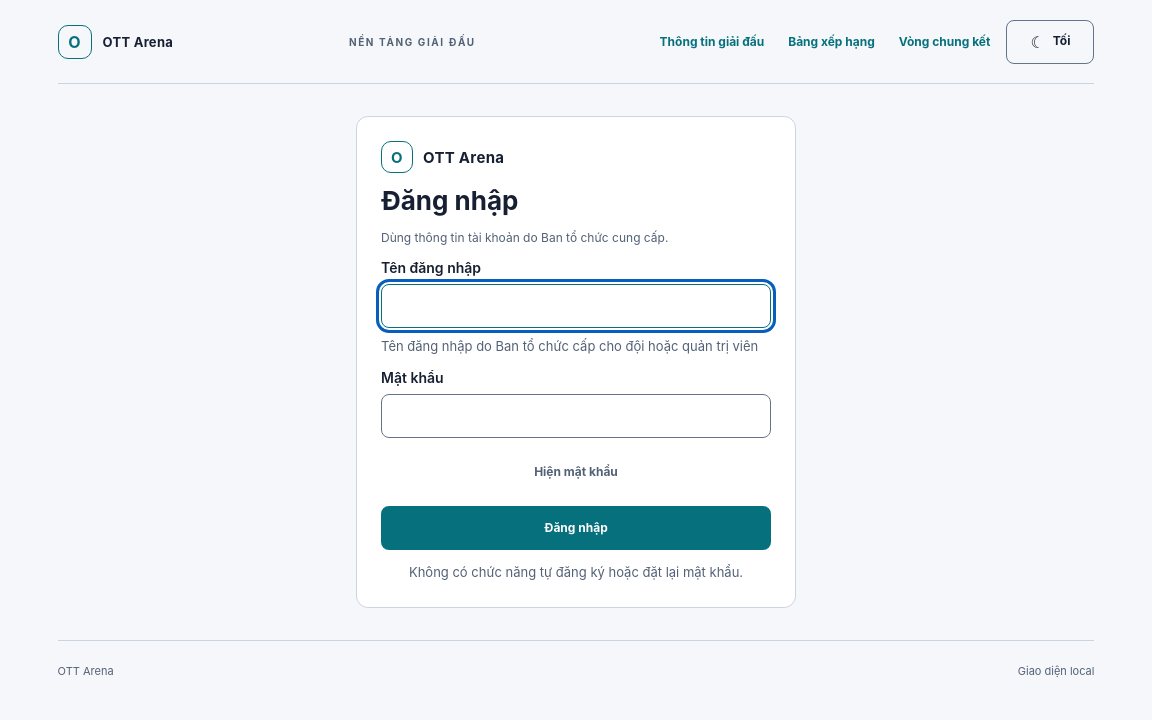
Scenario: authentication routes › accepts Enter submission, routes a team login to /team, and drops the previous admin route
Step 1. Type "team-user" into the field labelled "Tên đăng nhập" → [576, 306], box [381, 284, 771, 328]
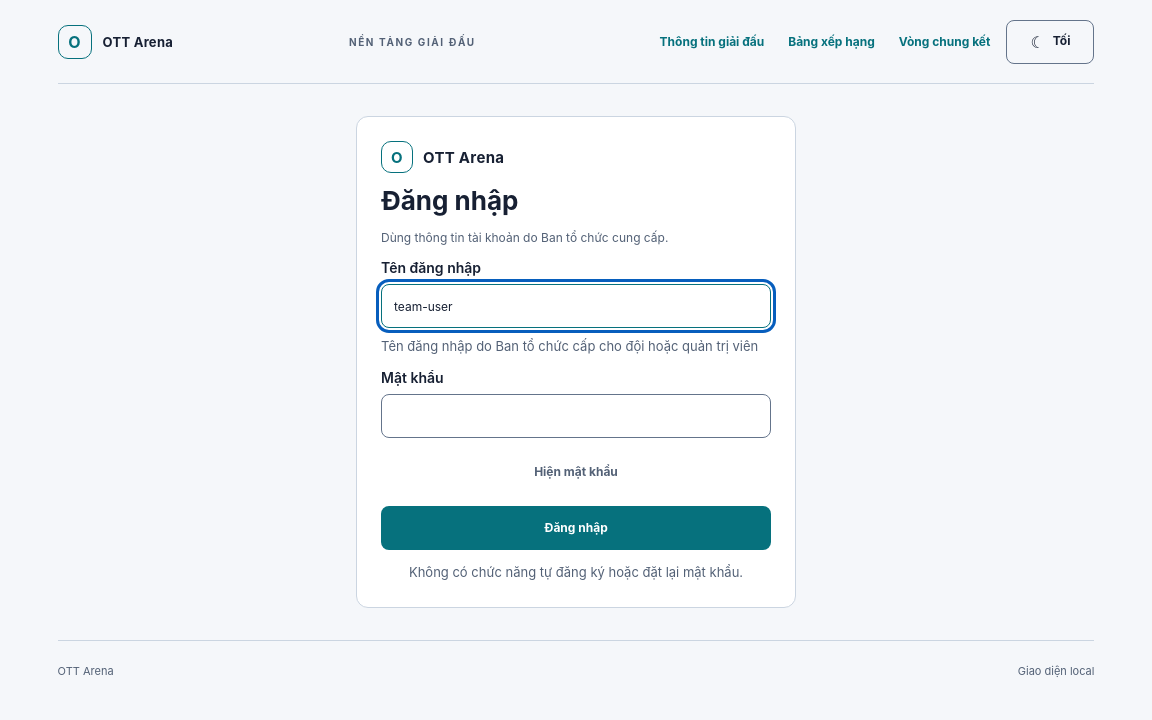
Step 2. Type "correct-password" into the password field labelled "Mật khẩu" → [576, 416], box [381, 394, 771, 438]
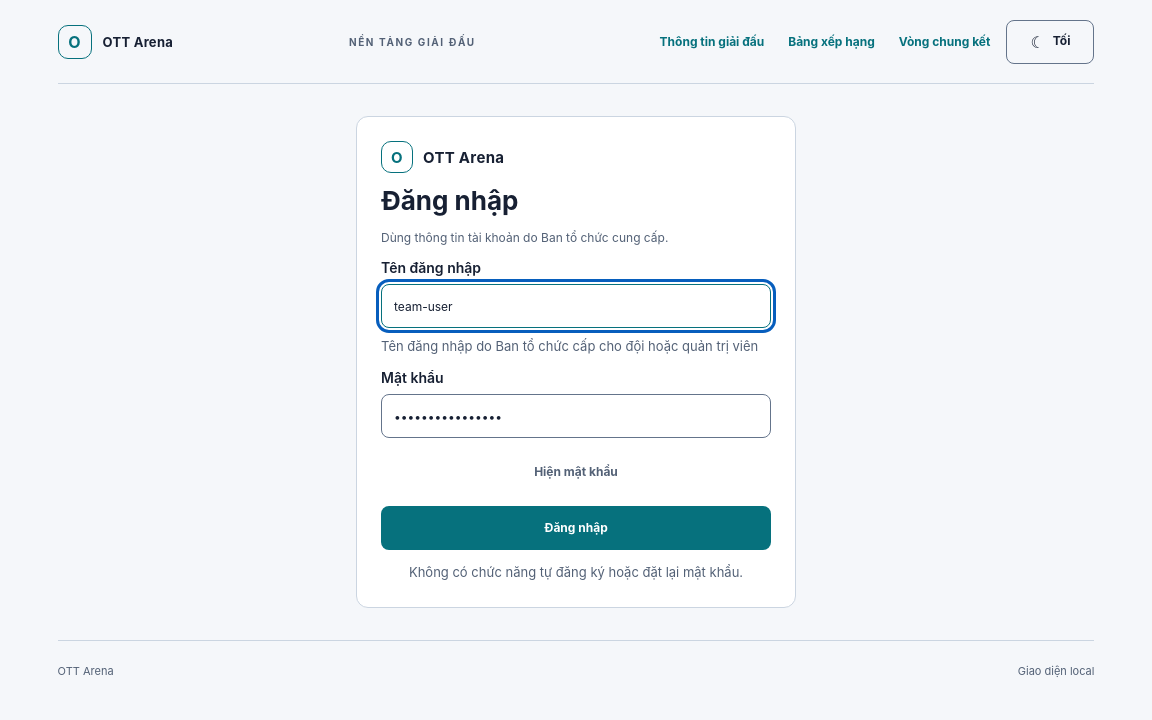
Step 3. Submit the form "đăng nhập", box [381, 259, 771, 550]
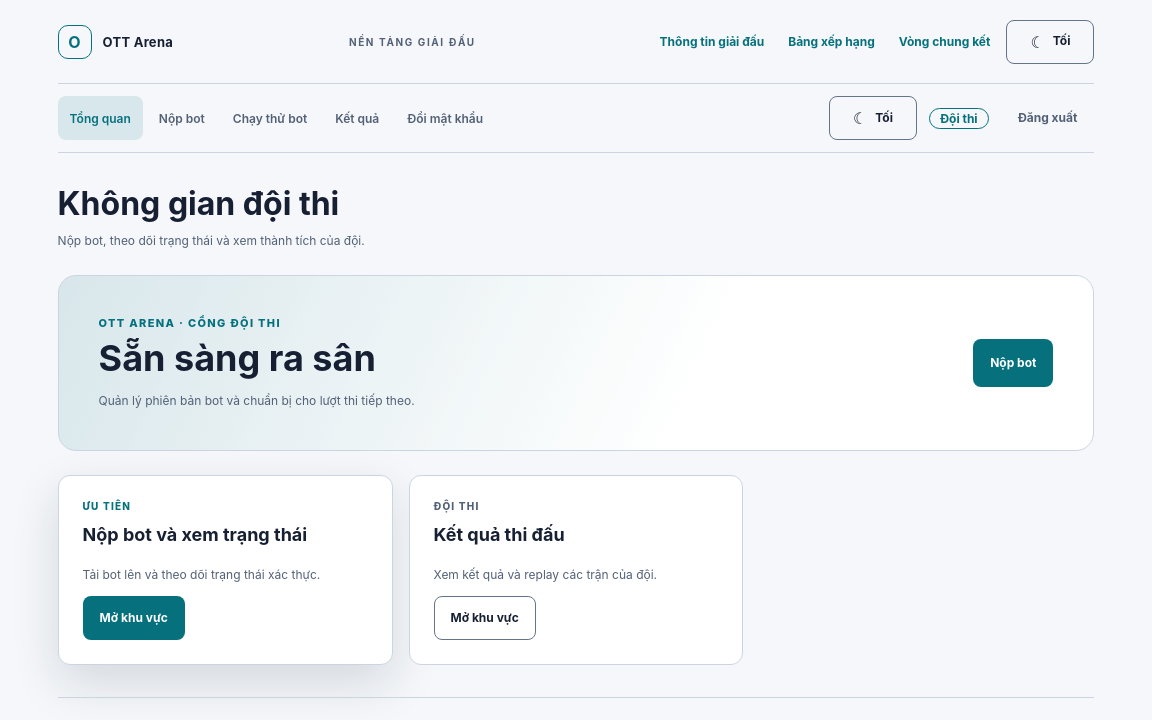
expect the heading "Không gian đội thi" is shown: met, box [58, 185, 365, 223]
